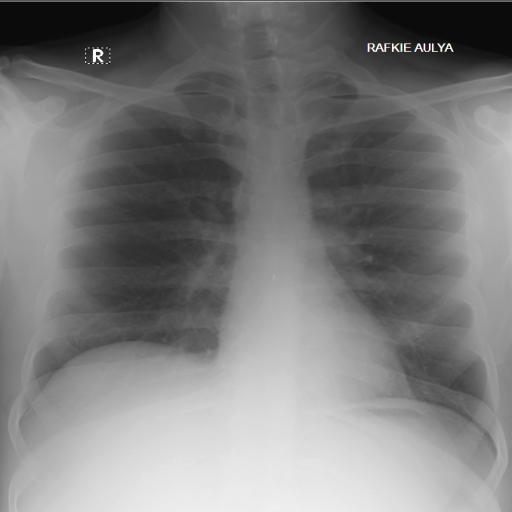normal: (12, 46, 507, 460)
